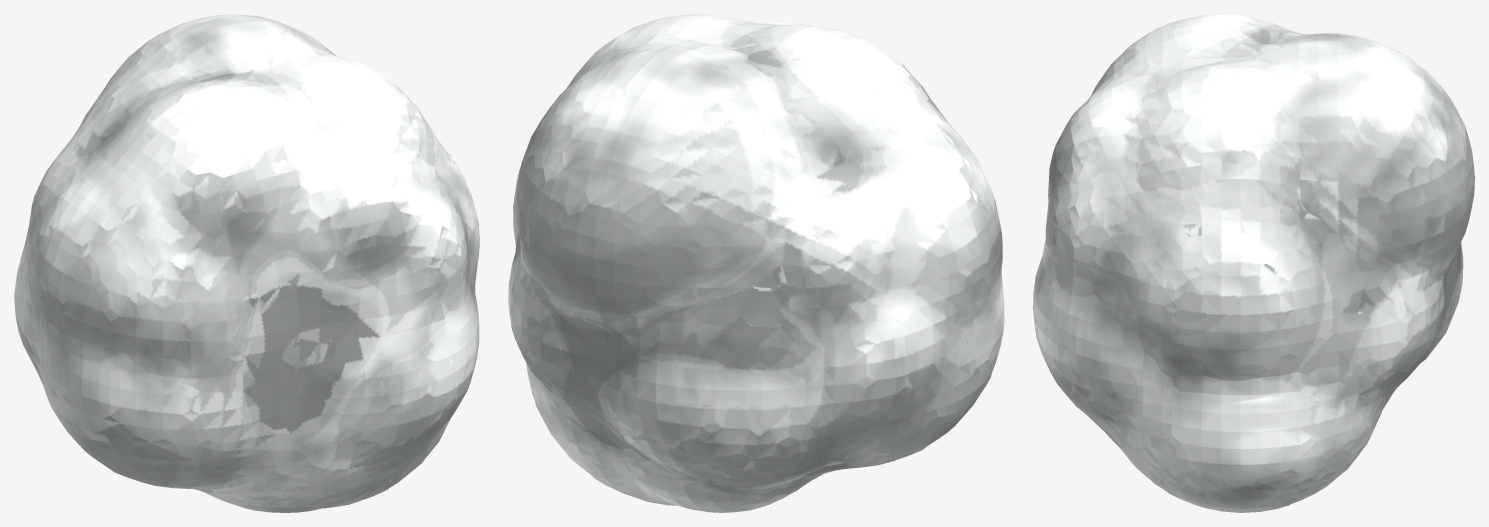
Rendered from cloud.glb.
3 views of the same model, side by side, from view 1: azimuth 30°, elevation 25°; view 2: azimuth 150°, elevation 25°; view 3: azimuth 270°, elevation 25° (orthographic). The views are drawn at different scales.
Parts seen in each view (by area): view 1: Sphere; view 2: Sphere; view 3: Sphere.
Part boxes in pixels (x1,y1,x2,y2): Sphere: (14,14,479,512); Sphere: (508,14,1004,512); Sphere: (1033,14,1474,512).
Bounding box in the file's own units: 1.1 × 1.14 × 1.05.
1 material, 1 textured.
